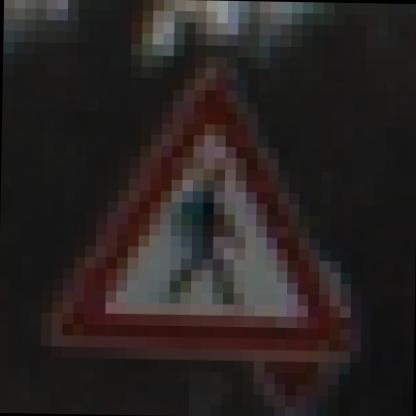crosswalk: (38, 80, 373, 376)
